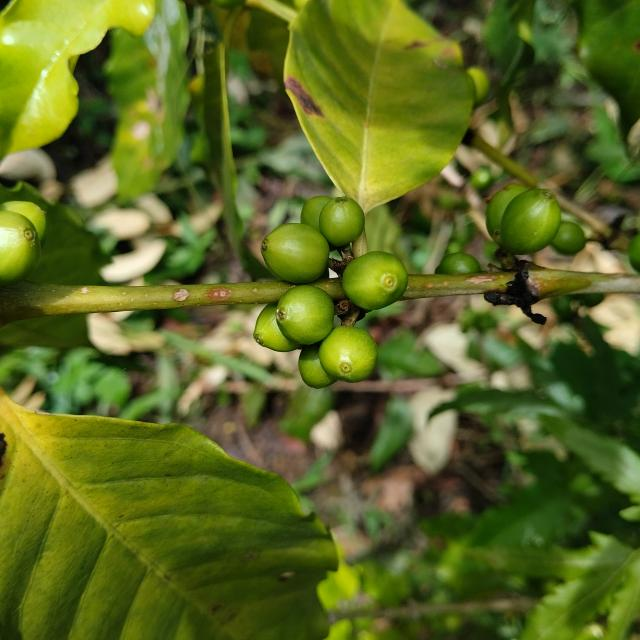green: (500, 188, 562, 255), (261, 223, 330, 283), (342, 251, 408, 310), (276, 285, 335, 345), (319, 326, 378, 383), (0, 210, 40, 286), (253, 303, 301, 352), (319, 196, 365, 246), (486, 183, 528, 236), (300, 196, 333, 231), (435, 252, 481, 274)
